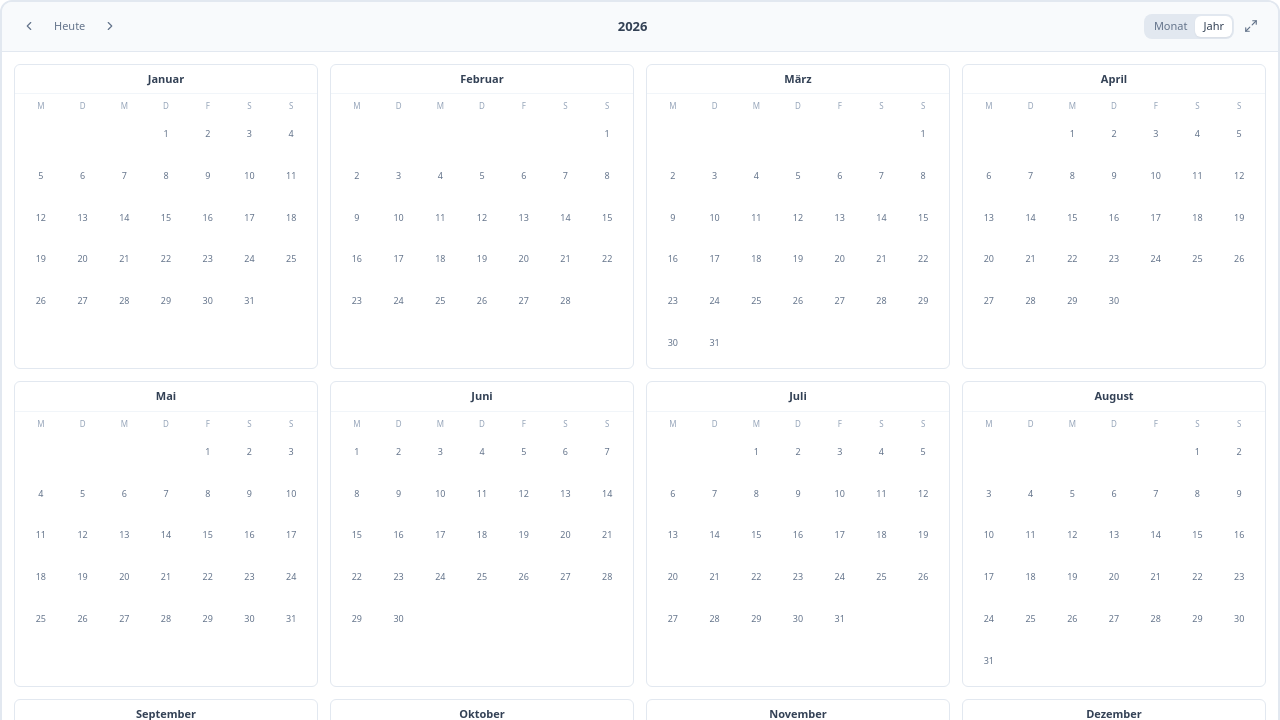
it: LeaveCalendar — year view › Vorheriger / Nächster move by a year in year mode
Check: the text "2026" is shown, box [618,16,648,36]
Check: the button named "Vorheriges Jahr" is shown, box [18,15,40,37]
Click the button named "Nächstes Jahr" at (110, 26), box [99,15,121,37]
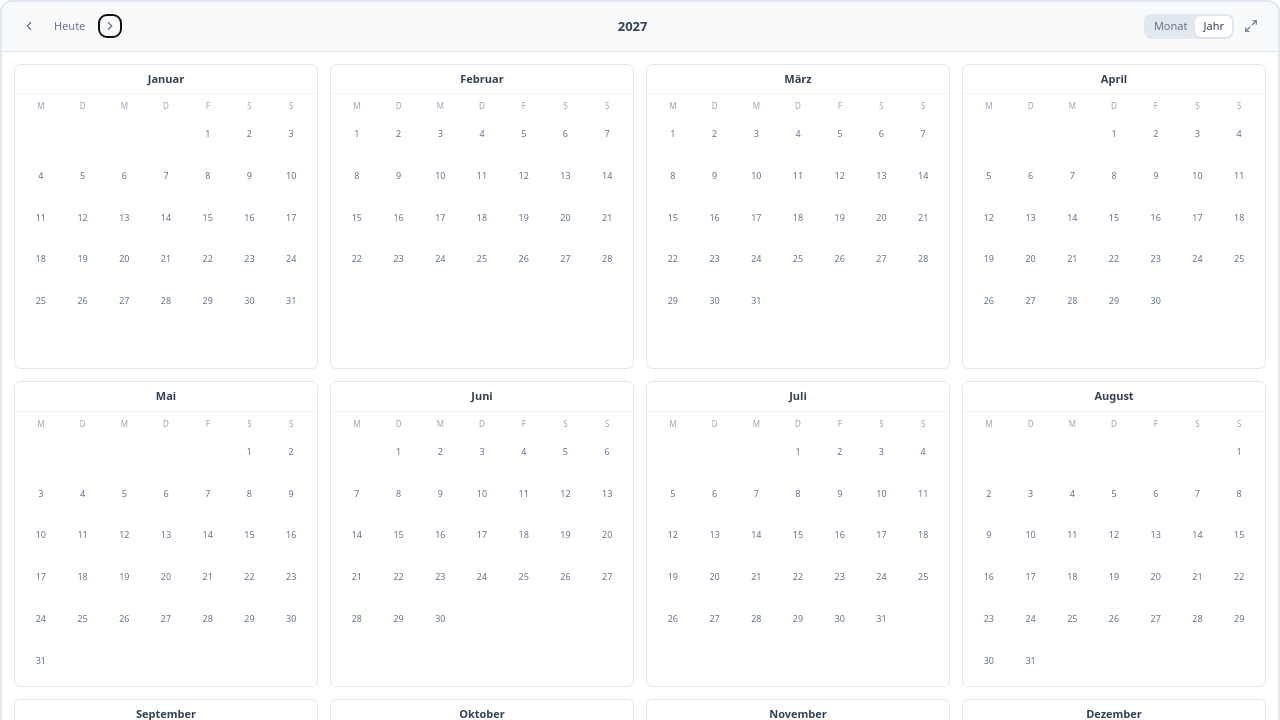
Check: the text "2027" is shown, box [618,16,648,36]
Click the button named "Vorheriges Jahr" at (29, 26), box [18,15,40,37]
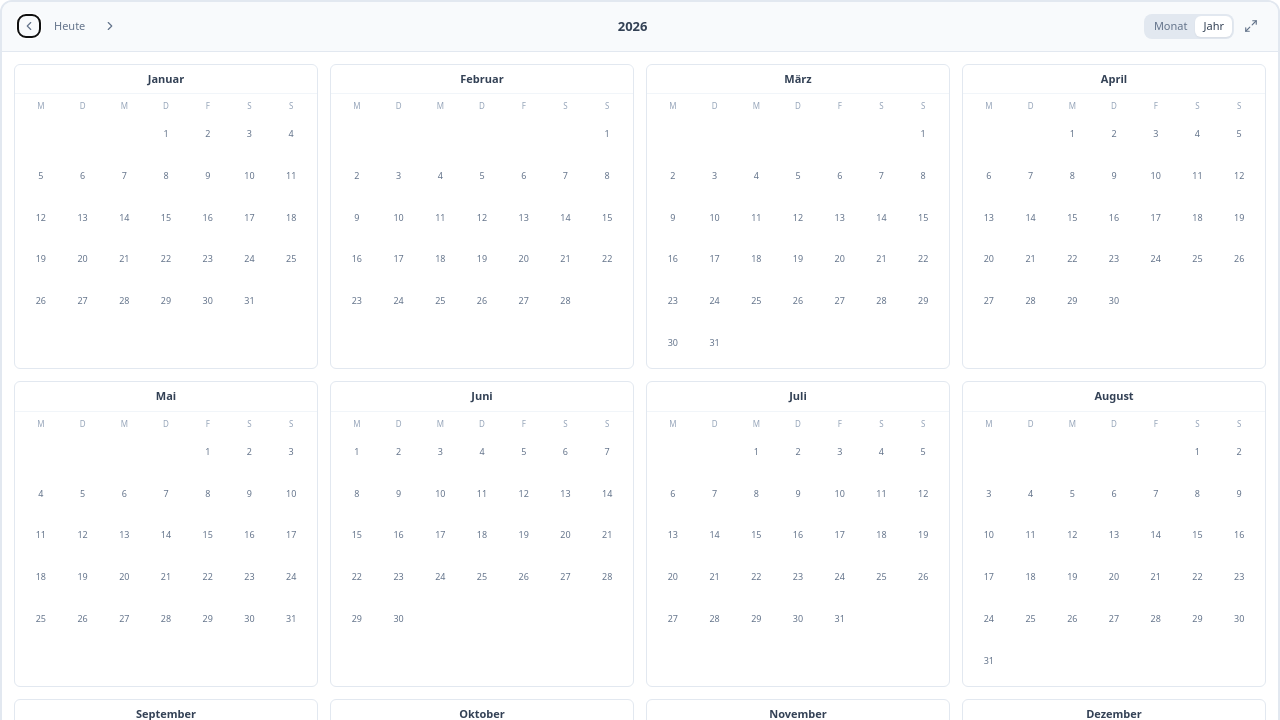
Click the button named "Vorheriges Jahr" at (29, 26), box [18,15,40,37]
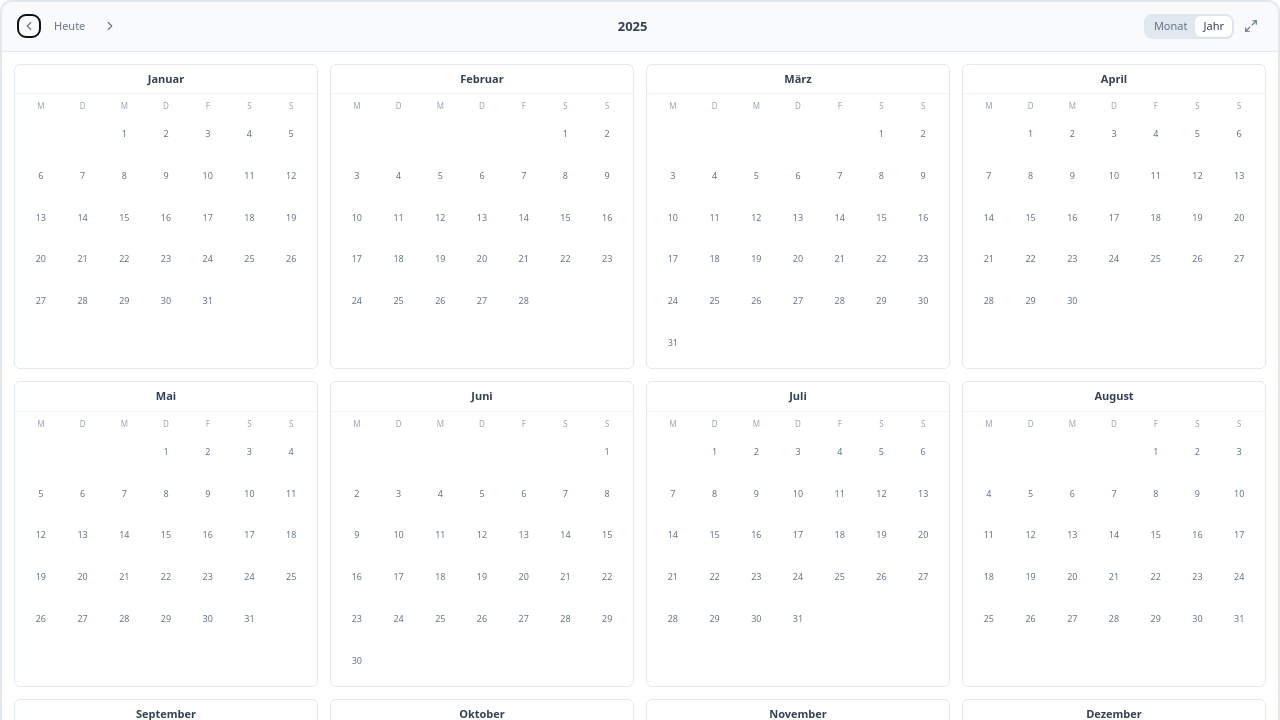
Check: the text "2025" is shown, box [618,16,648,36]
